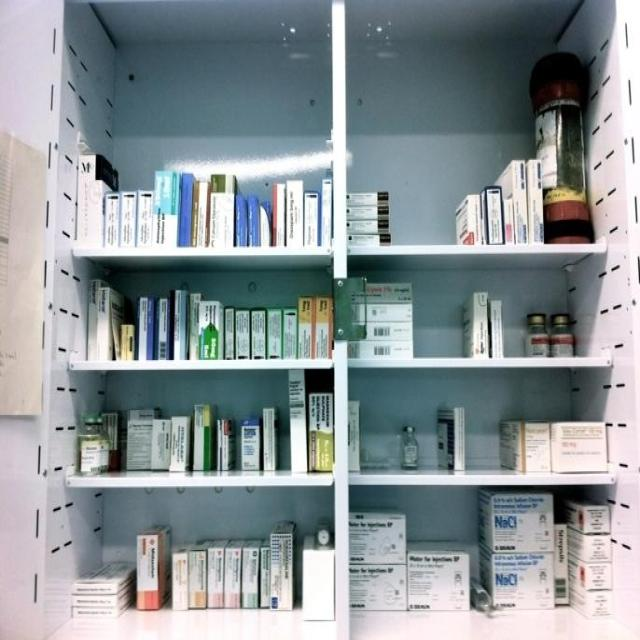Medical Waste: (49, 35, 621, 619)
